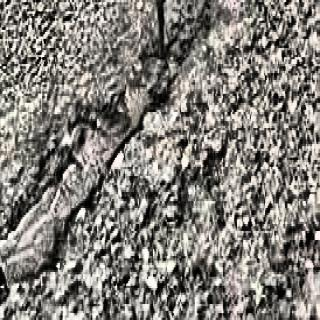alligator-crack: (1, 0, 225, 283)
